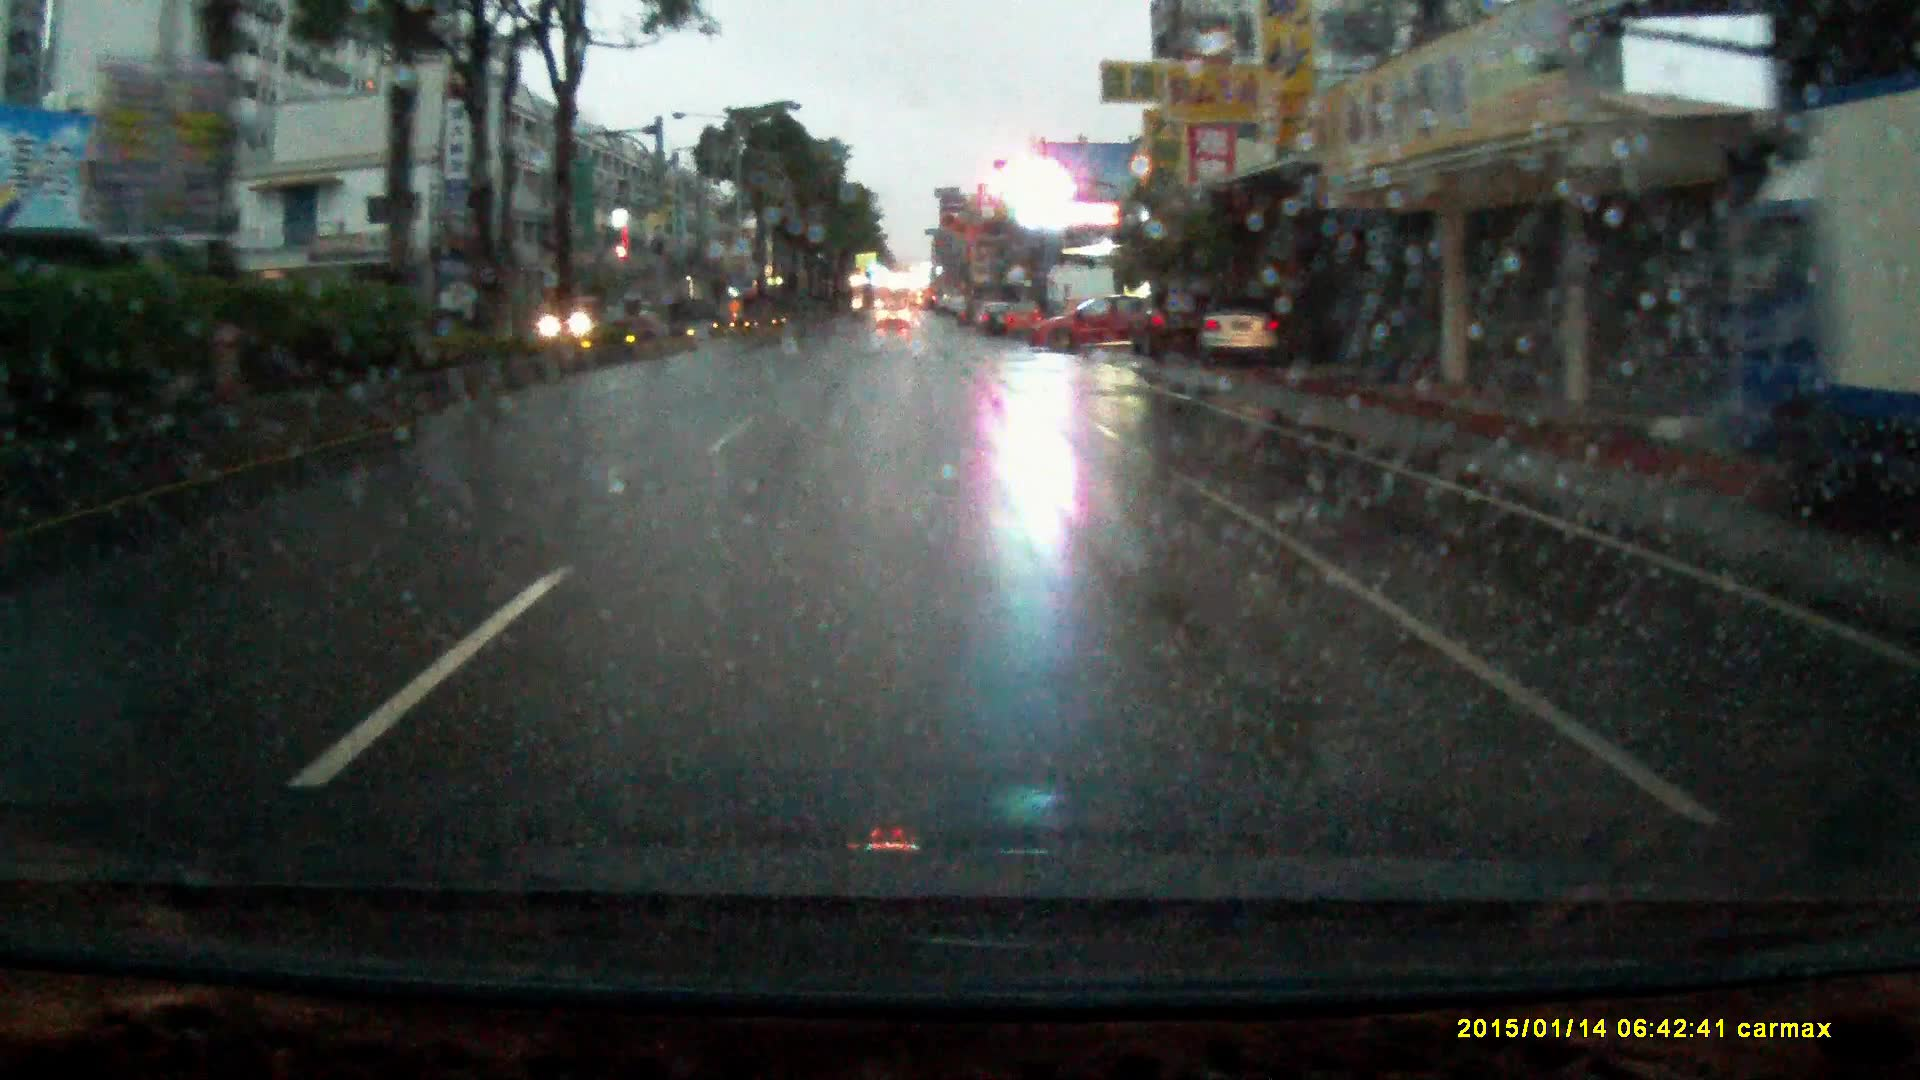vehicle: (1712, 92, 1920, 508), (1026, 294, 1168, 353), (1196, 293, 1286, 368), (1130, 290, 1209, 357), (1004, 299, 1046, 338), (878, 301, 913, 330)
